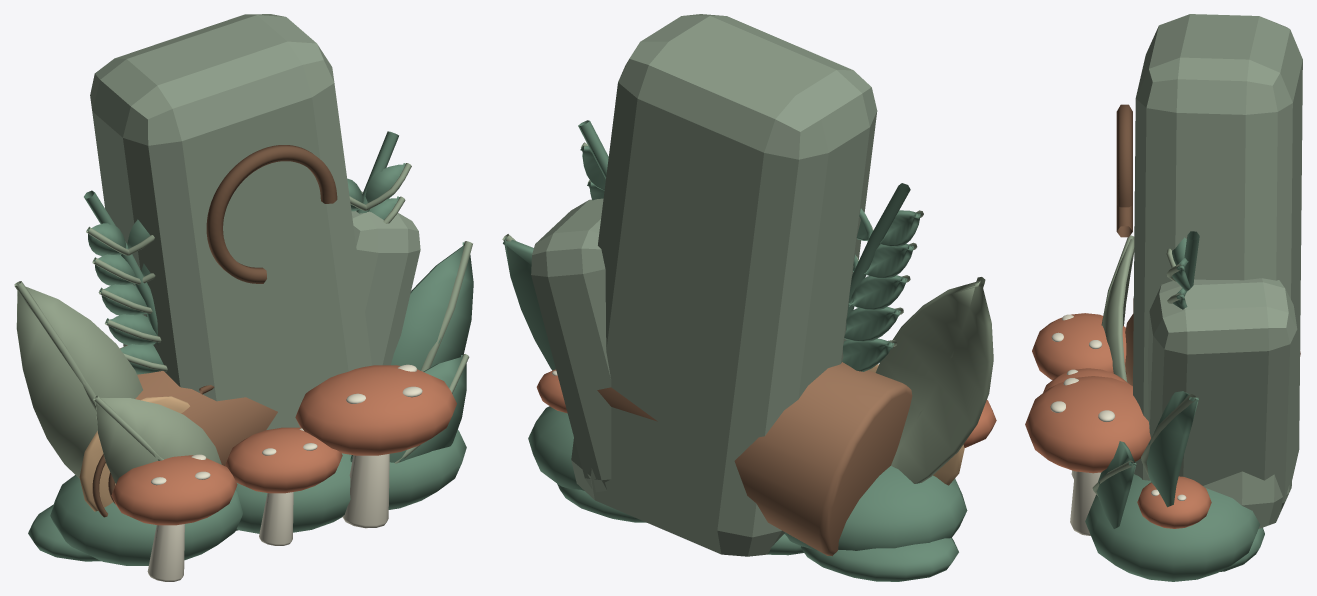
File: bosco.glb
3 renders of one model, left to right at view 1: azimuth 30°, elevation 25°; view 2: azimuth 150°, elevation 25°; view 3: azimuth 270°, elevation 25°, orthographic. The views are drawn at different scales.
Visible parts, largest first — view 1: right_stone, right_fern, left_copper, right_sage, left_fern, left_sage, right_copper, left_ivory, left_wood, right_bark, right_ivory, left_cut (+1 smaller); view 2: right_stone, left_wood, left_fern, right_sage, right_fern, left_copper, right_copper; view 3: right_stone, right_fern, left_copper, right_copper, left_fern, left_sage, right_bark, left_ivory, right_sage, left_wood.
Boxes of the visible parts, box(x1,y1,x2,y2) form: right_stone: box(90, 14, 420, 429); right_fern: box(50, 242, 473, 565); left_copper: box(225, 365, 456, 493); right_sage: box(14, 241, 472, 478); left_fern: box(28, 131, 466, 561); left_sage: box(86, 163, 469, 483); right_copper: box(111, 455, 237, 525); left_ivory: box(259, 364, 422, 545); left_wood: box(120, 345, 277, 465); right_bark: box(206, 145, 337, 283); right_ivory: box(147, 454, 210, 581); left_cut: box(79, 396, 189, 511); right_stone: box(531, 14, 877, 556); left_wood: box(597, 362, 912, 556); left_fern: box(557, 120, 958, 581); right_sage: box(502, 234, 993, 483); right_fern: box(503, 237, 967, 550); left_copper: box(536, 369, 567, 413); right_copper: box(963, 400, 996, 448); right_stone: box(1133, 14, 1302, 528); right_fern: box(1085, 381, 1260, 581); left_copper: box(1025, 368, 1211, 528); right_copper: box(1032, 313, 1126, 379); left_fern: box(1097, 231, 1264, 571); left_sage: box(1092, 235, 1182, 496); right_bark: box(1116, 104, 1132, 237); left_ivory: box(1050, 369, 1186, 535); right_sage: box(1141, 394, 1195, 481); left_wood: box(1125, 314, 1300, 385).
Bounding box in the file's own units: 1 × 0.9891 × 0.5304.
